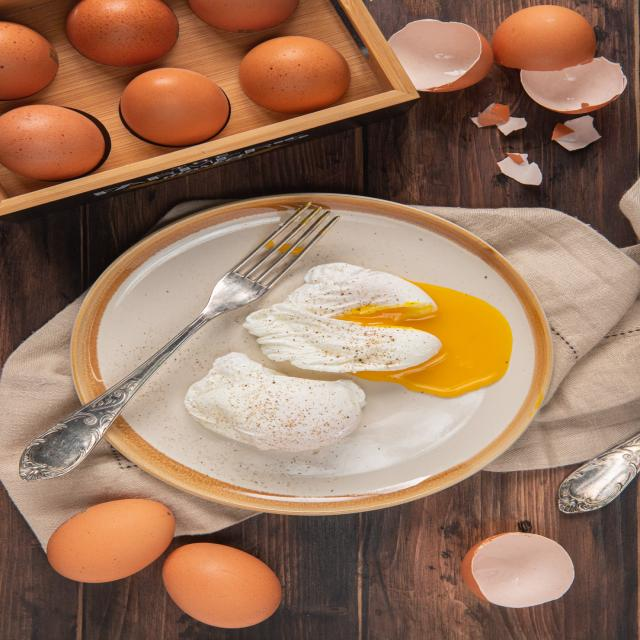Egg: (0, 0, 373, 171), (38, 493, 172, 602), (153, 541, 300, 636)
